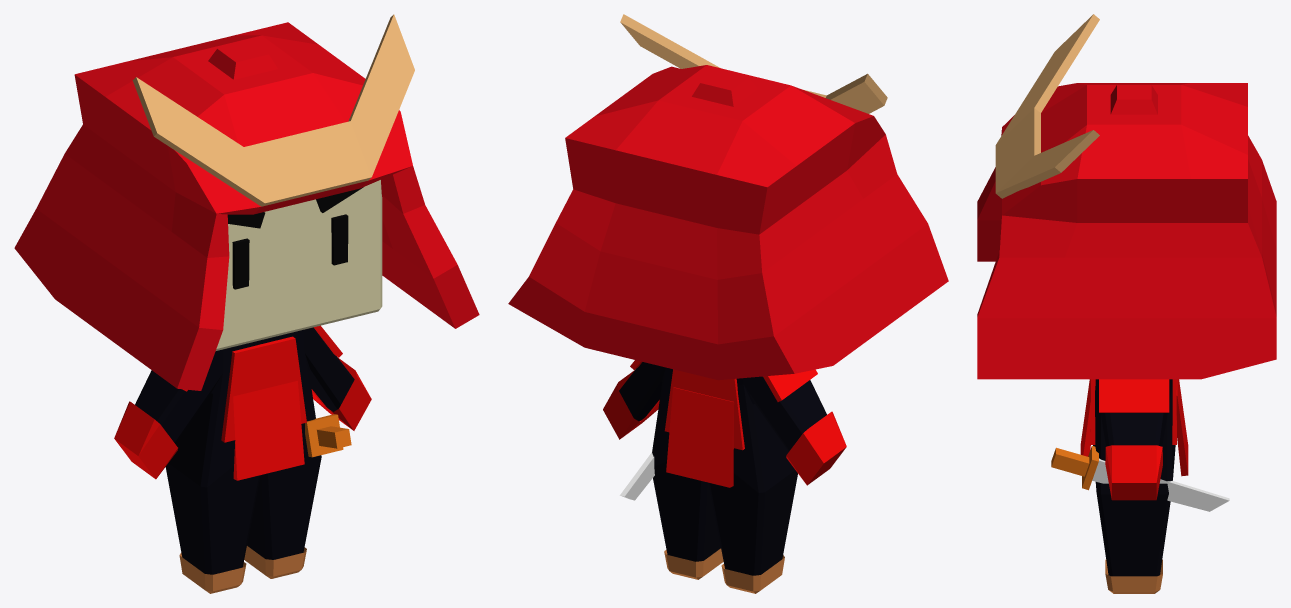
File: samurai2.fbx
3 views of the same model, side by side, from view 1: azimuth 30°, elevation 25°; view 2: azimuth 150°, elevation 25°; view 3: azimuth 270°, elevation 25° (orthographic). The views are drawn at different scales.
Visible parts, largest first — view 1: polySurface17; view 2: polySurface17; view 3: polySurface17.
Part boxes in pixels (<box>): polySurface17: <box>14,14,479,593</box>; polySurface17: <box>508,14,948,593</box>; polySurface17: <box>977,14,1276,593</box>.
Bounding box in the file's own units: 337 × 580 × 314.
